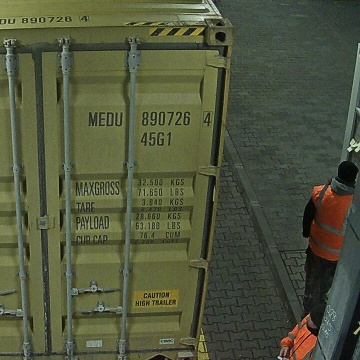serial_id: (88, 112, 211, 126)
